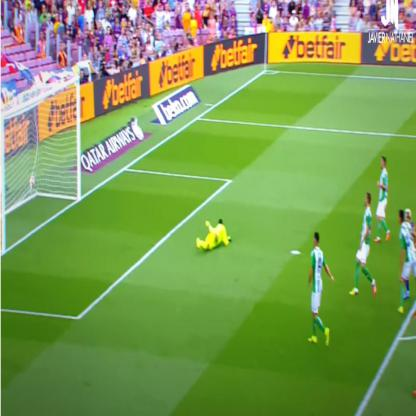goal: (25, 76, 53, 249)
